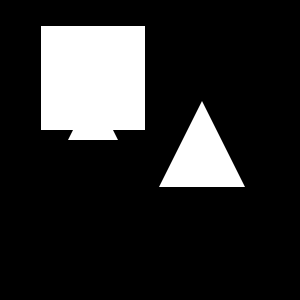circle: (41, 26, 145, 130)
triangle: (159, 101, 245, 187), (68, 90, 118, 140)
